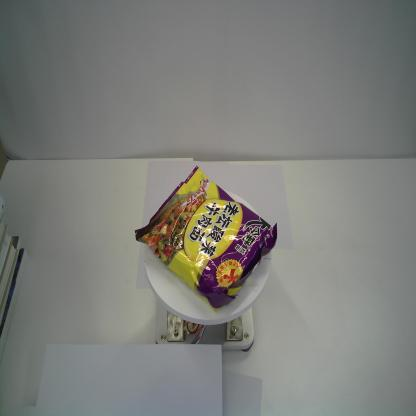Instant Noodles: (133, 163, 279, 315)
